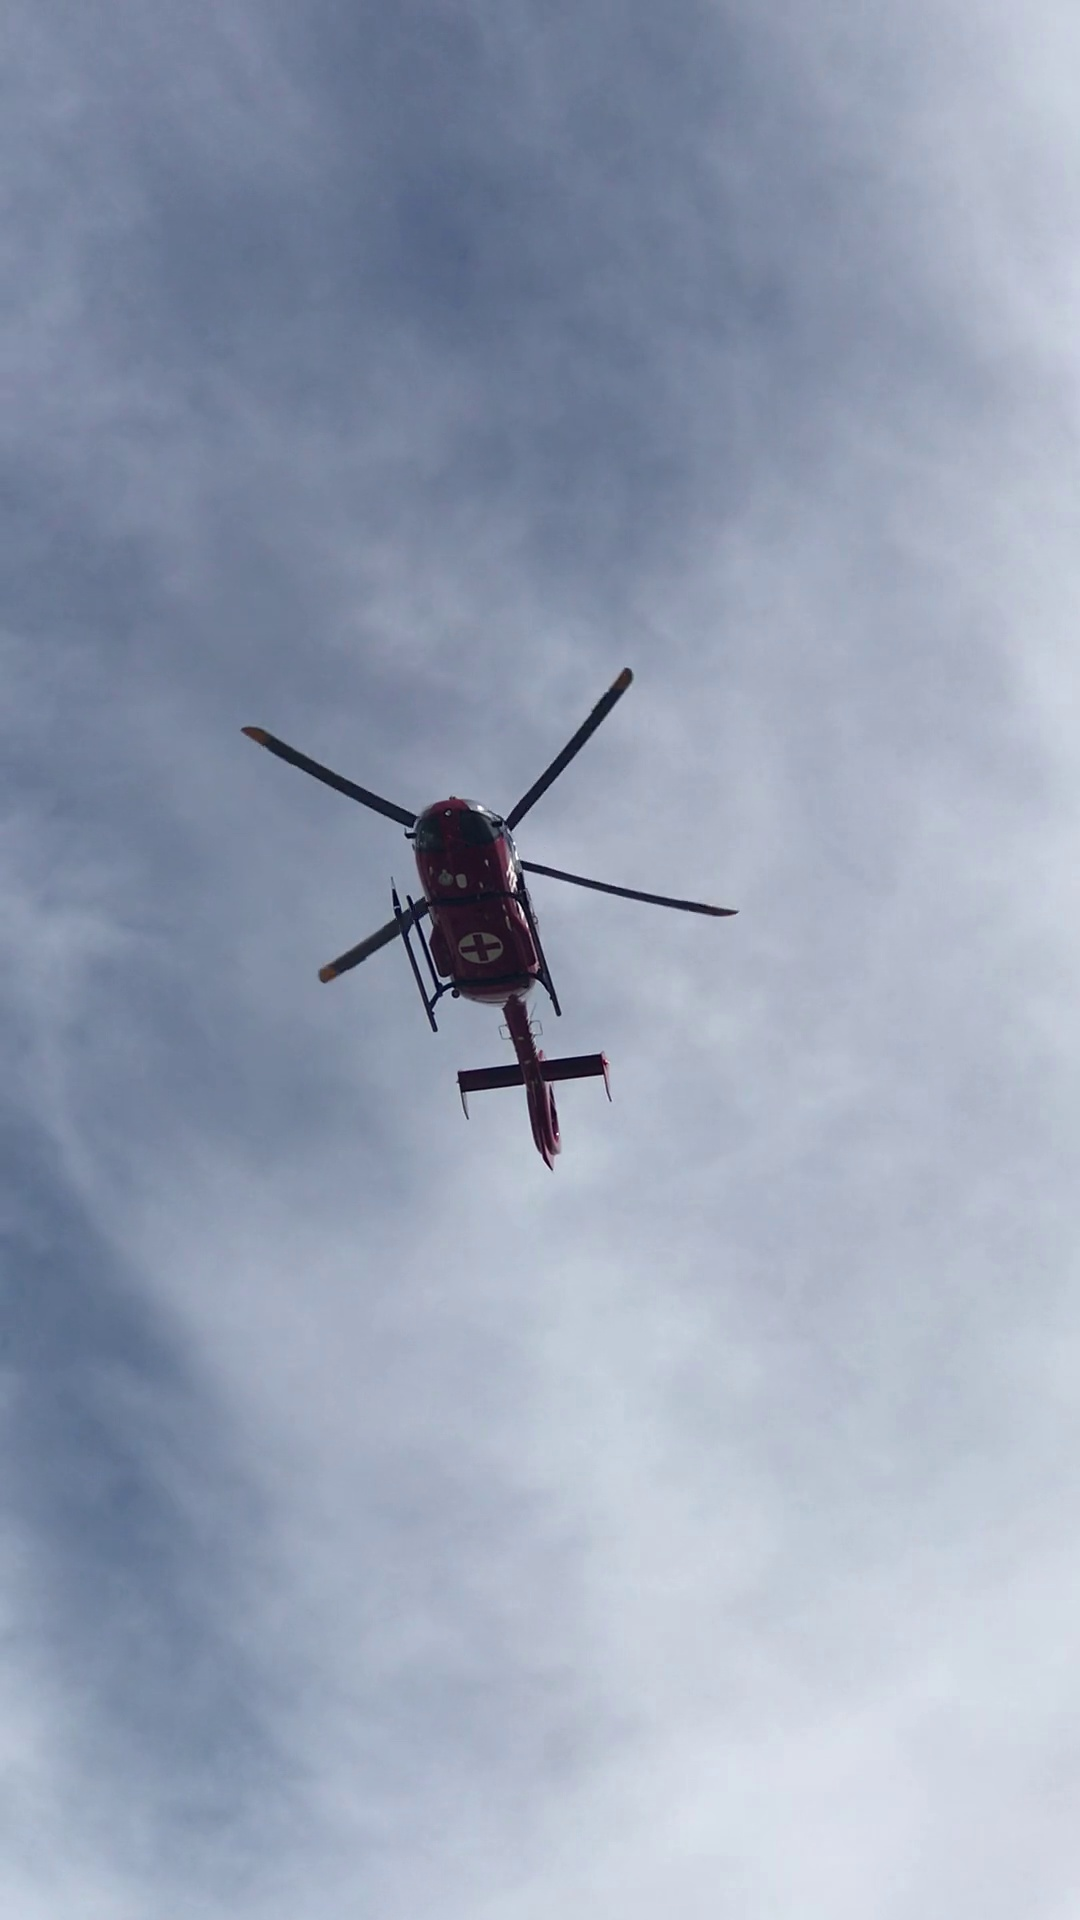heli: (241, 663, 738, 1167)
